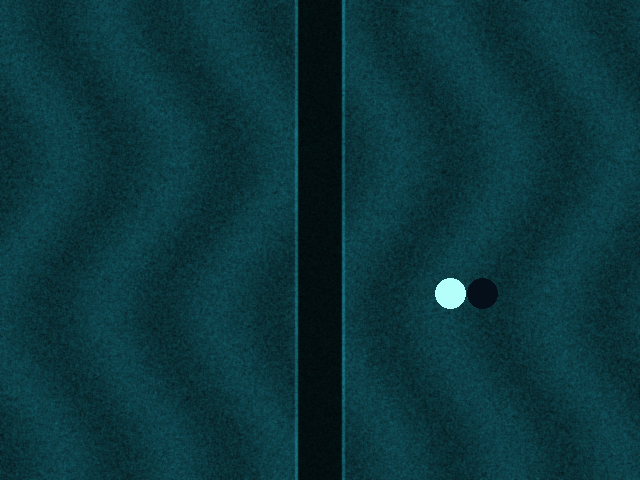Glass Debris: (435, 278, 465, 308)
